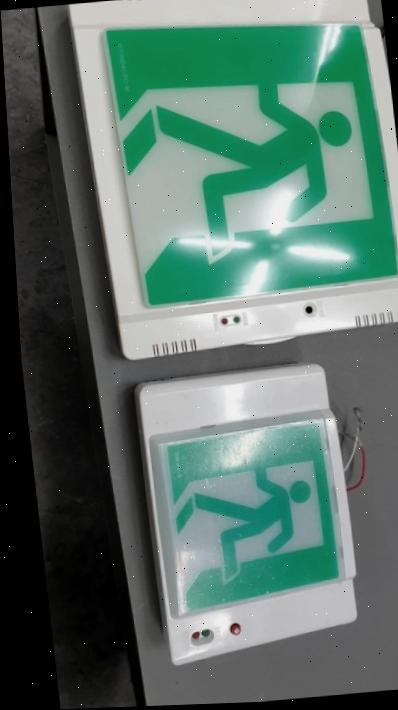emergency_exit: (67, 2, 397, 360), (134, 363, 360, 666)
